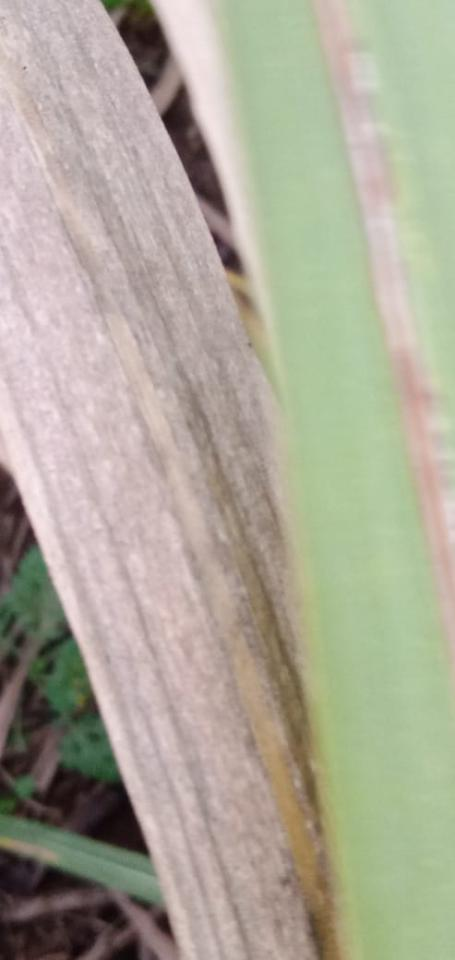RedRot: (391, 317, 454, 592), (323, 1, 397, 203)
Yellow: (173, 448, 347, 959)
